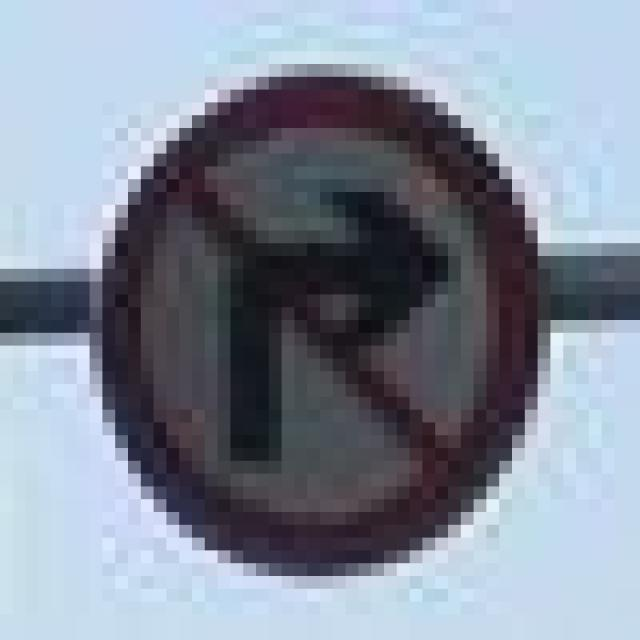right turn prohibited: (94, 67, 553, 579)
